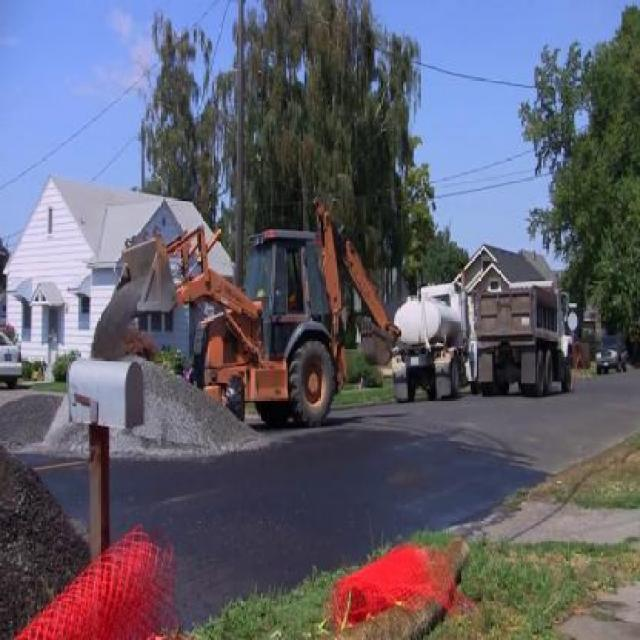Dump Truck: (475, 279, 574, 399)
Loader: (86, 159, 342, 442)
